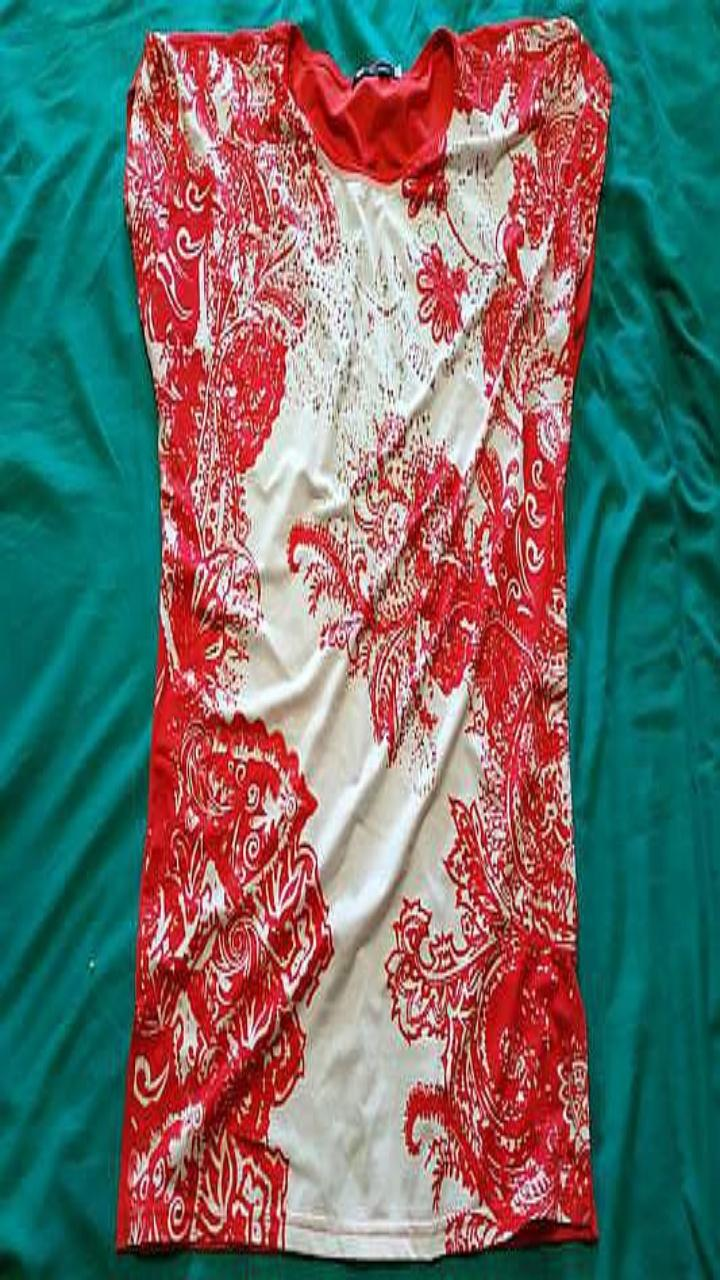T-Shirt: (117, 20, 609, 1257)
